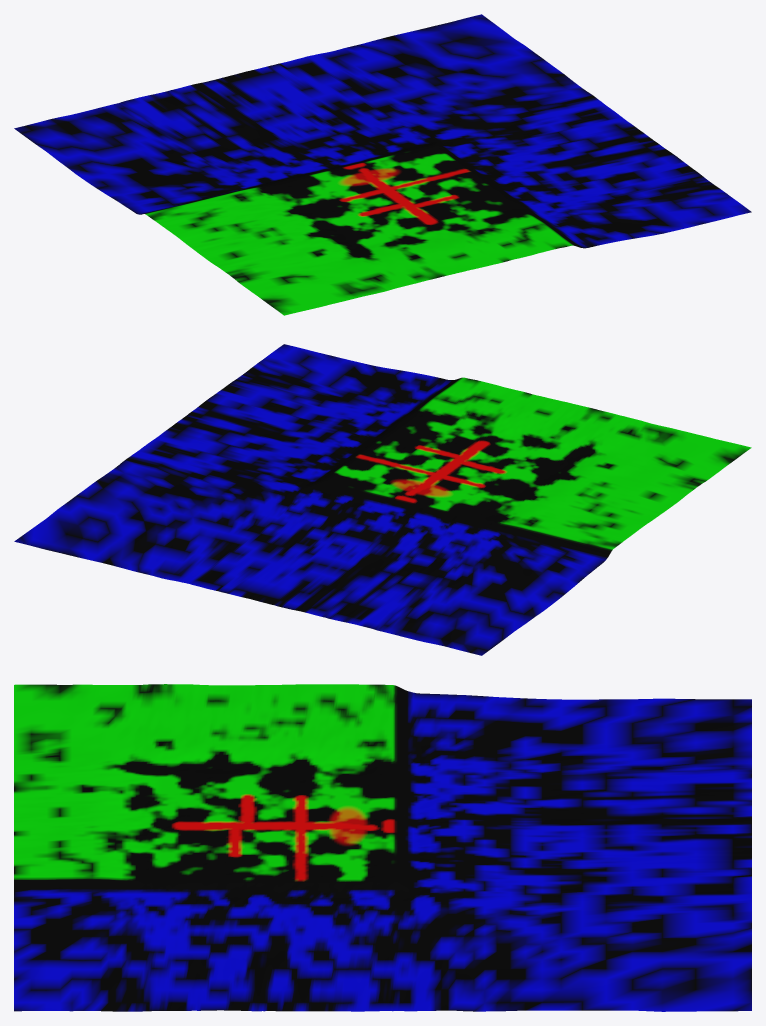
File: wake_ground.glb
3 renders of one model, top to bottom at view 1: azimuth 30°, elevation 25°; view 2: azimuth 150°, elevation 25°; view 3: azimuth 270°, elevation 25°, orthographic. The views are drawn at different scales.
Parts seen in each view (by area): view 1: wake_ground; view 2: wake_ground; view 3: wake_ground.
Boxes of the visible parts, x1,y1,x2,y2 form: wake_ground: [14, 14, 751, 315]; wake_ground: [14, 344, 751, 655]; wake_ground: [14, 684, 751, 1011].
Size of what is drawn, in the model's own units: 180 by 4.37 by 180.
